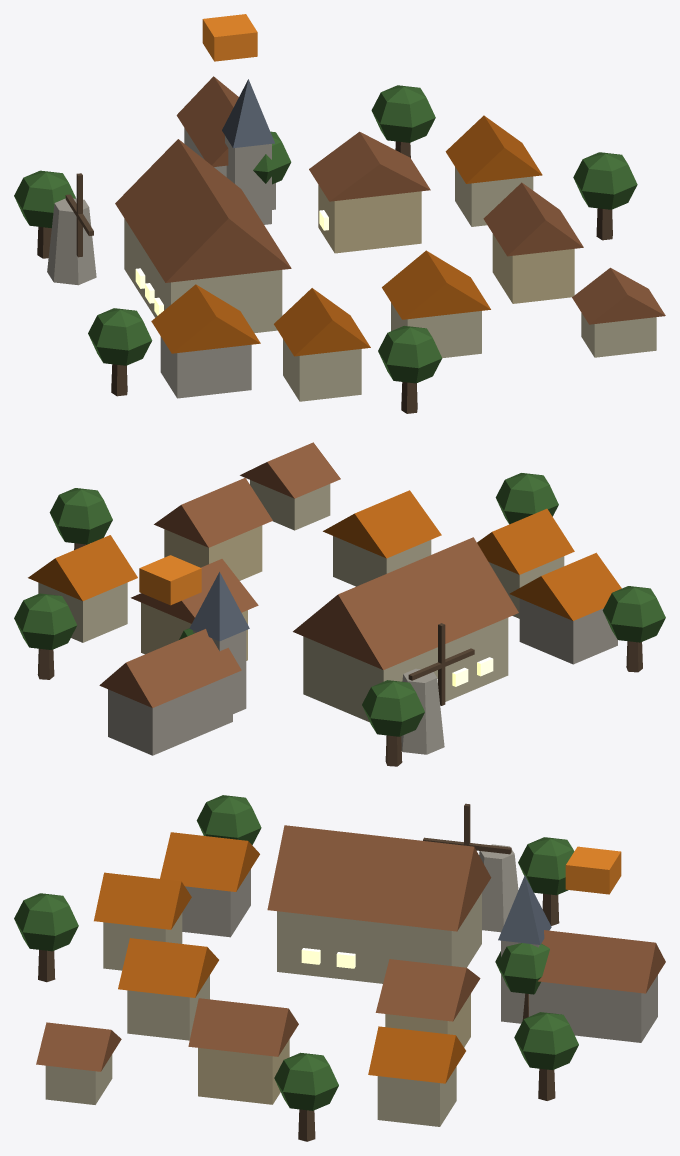
The model's file is overworld-settlement-european-rural.glb.
3 renders of one model, top to bottom at view 1: azimuth 30°, elevation 25°; view 2: azimuth 150°, elevation 25°; view 3: azimuth 270°, elevation 25°, orthographic. The views are drawn at different scales.
Parts seen in each view (by area): view 1: settlement; view 2: settlement; view 3: settlement.
Part boxes in pixels (<box>): settlement: <box>14,14,665,413</box>; settlement: <box>14,442,665,766</box>; settlement: <box>14,795,665,1141</box>.
Bounding box in the file's own units: 0.5218 × 0.141 × 0.5043.
